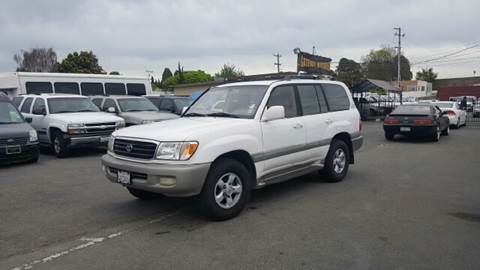car: (101, 80, 364, 219), (9, 93, 127, 156), (383, 102, 449, 145)
